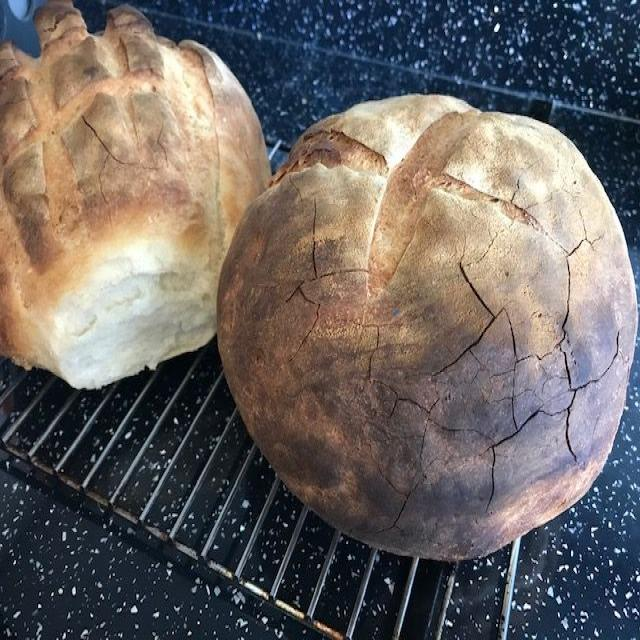Maltese-Bread: (219, 96, 634, 560), (0, 0, 270, 388)
